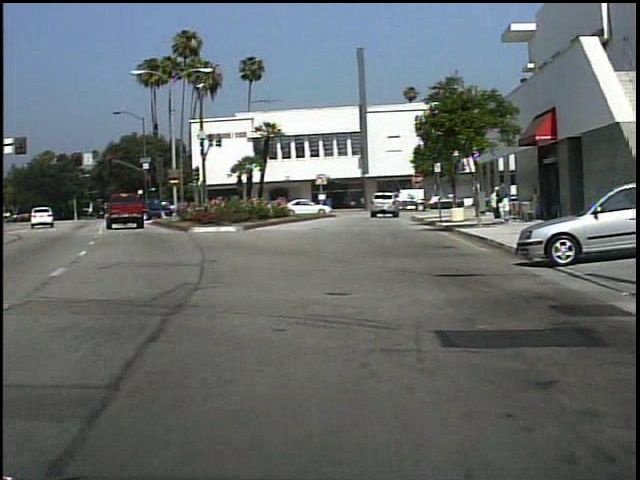person: (496, 182, 513, 224), (370, 191, 391, 219), (528, 184, 540, 222), (488, 184, 500, 219)
